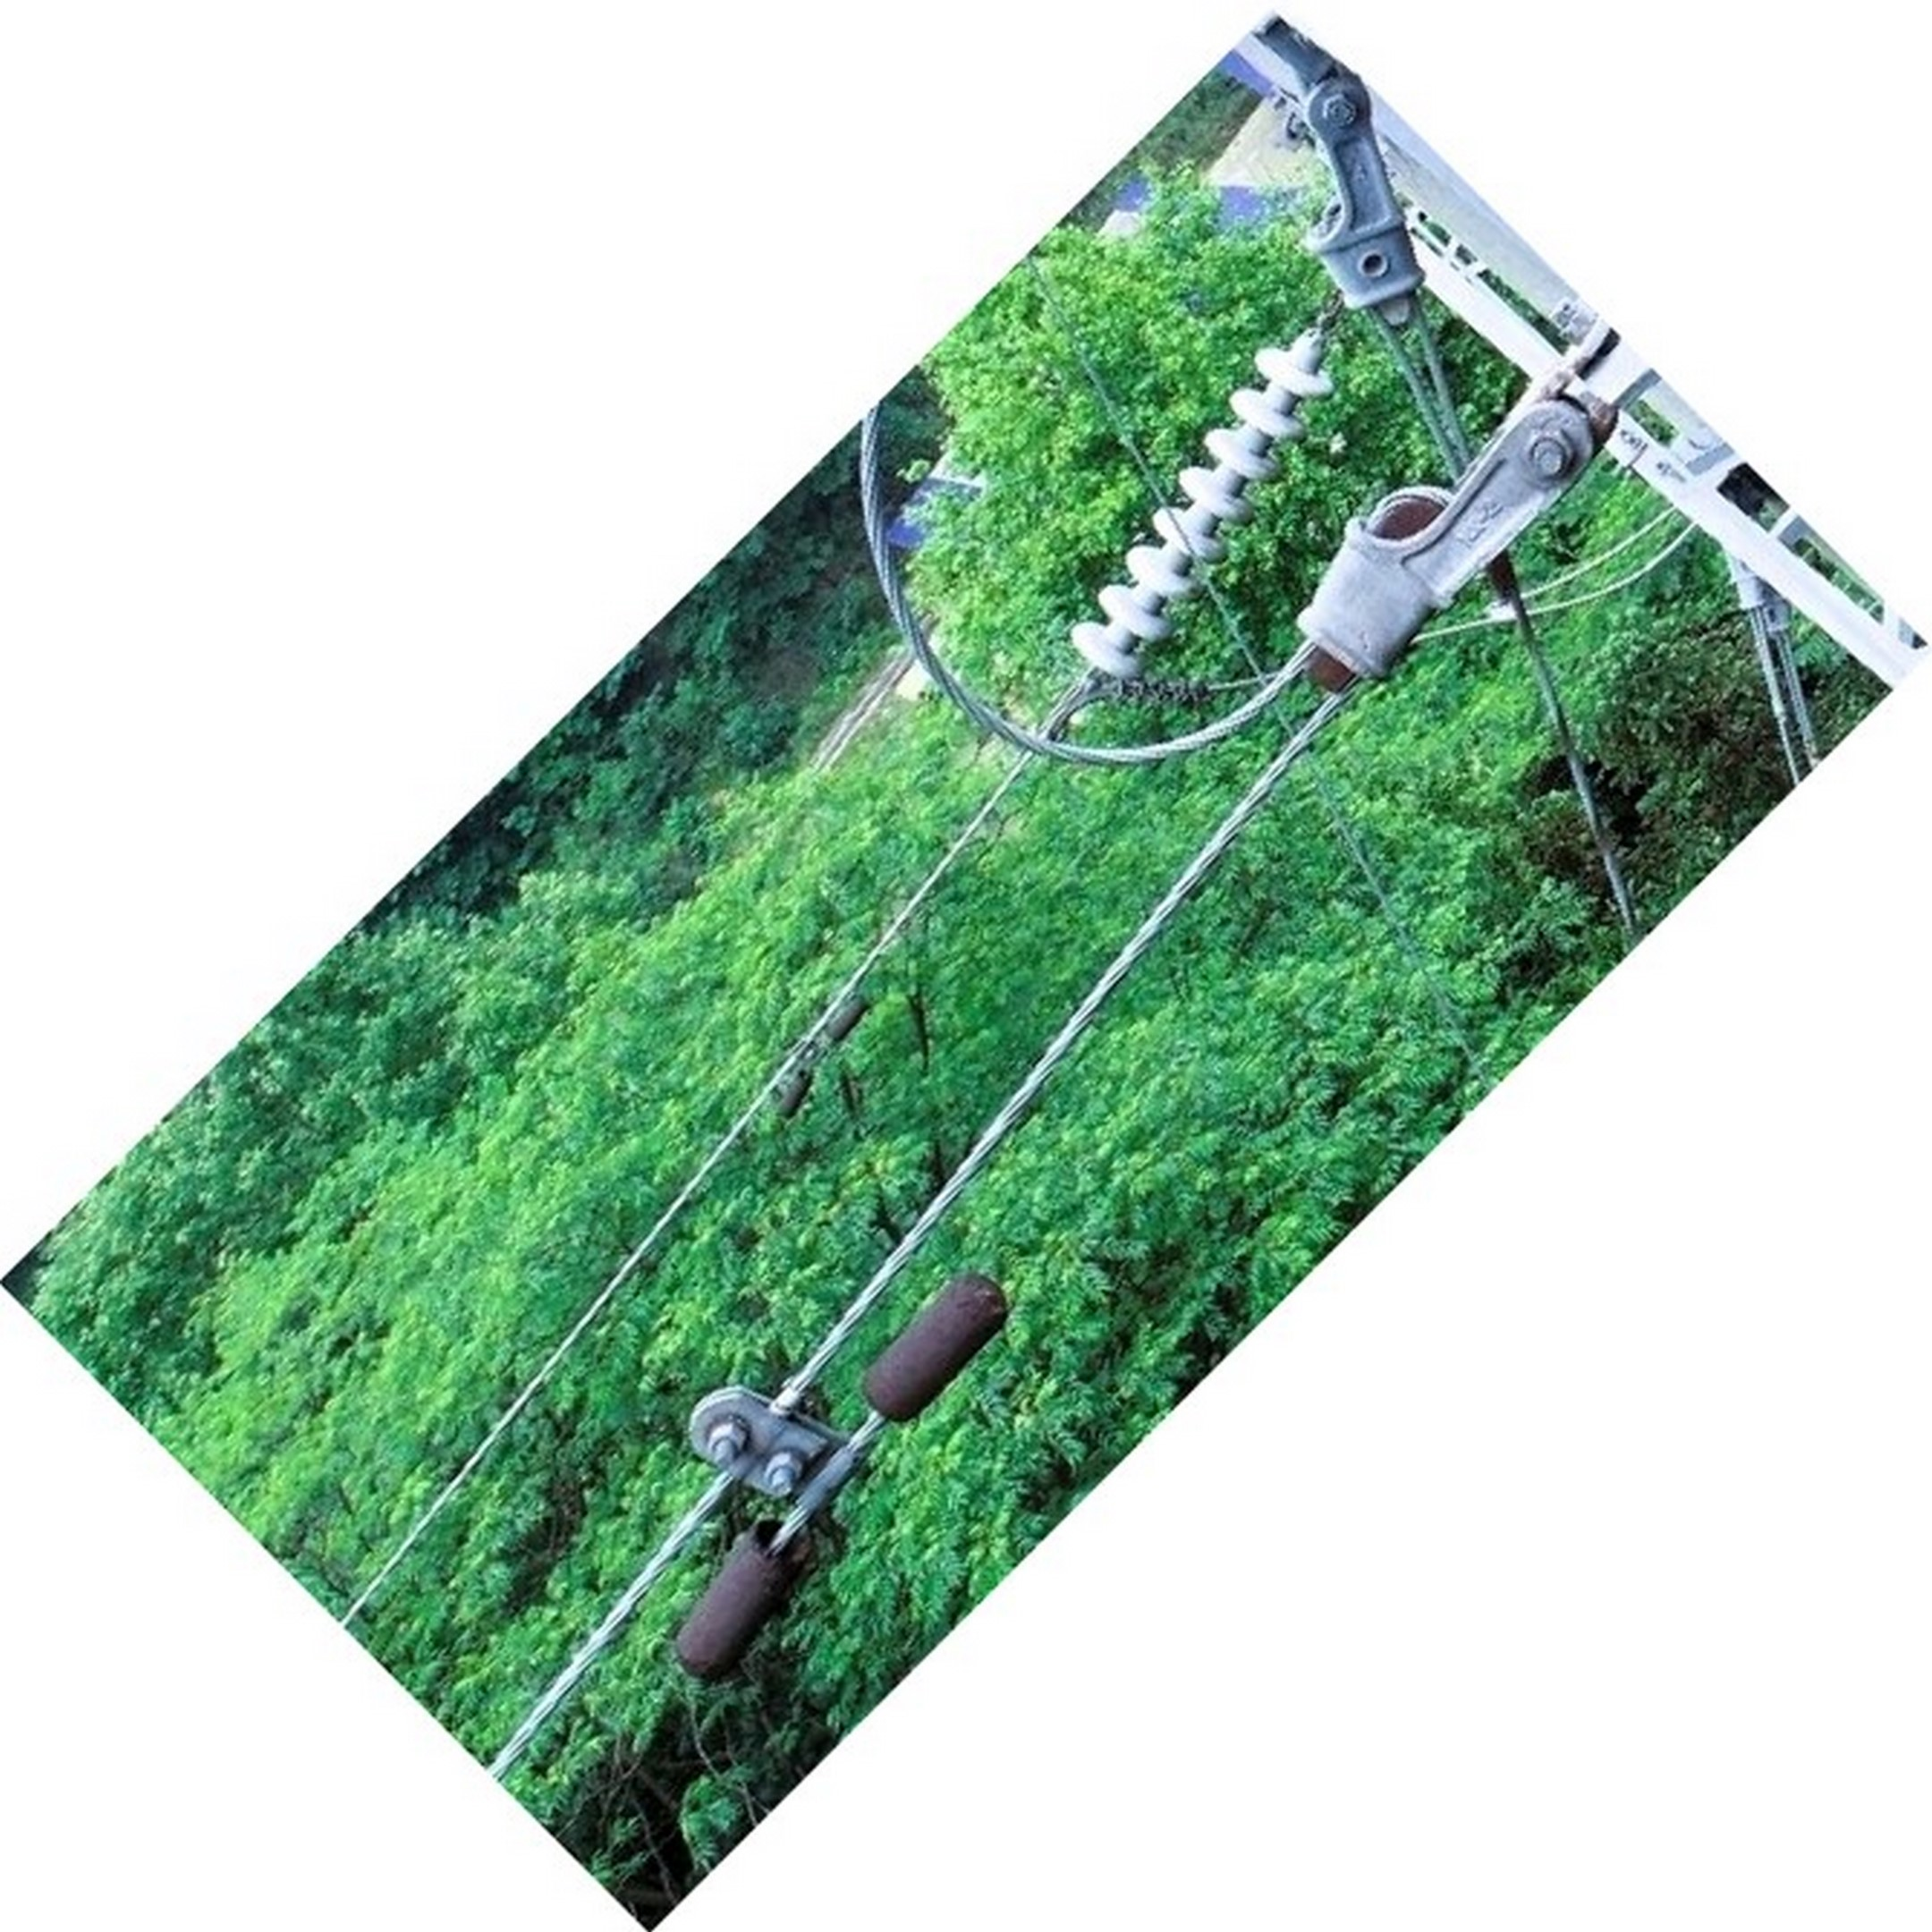Shockproof hammer: (625, 1221, 1035, 1702)
